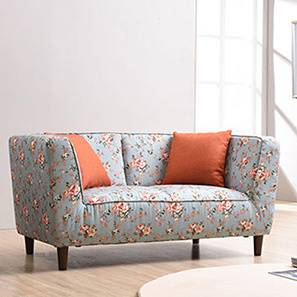chairs: (7, 131, 280, 271)
